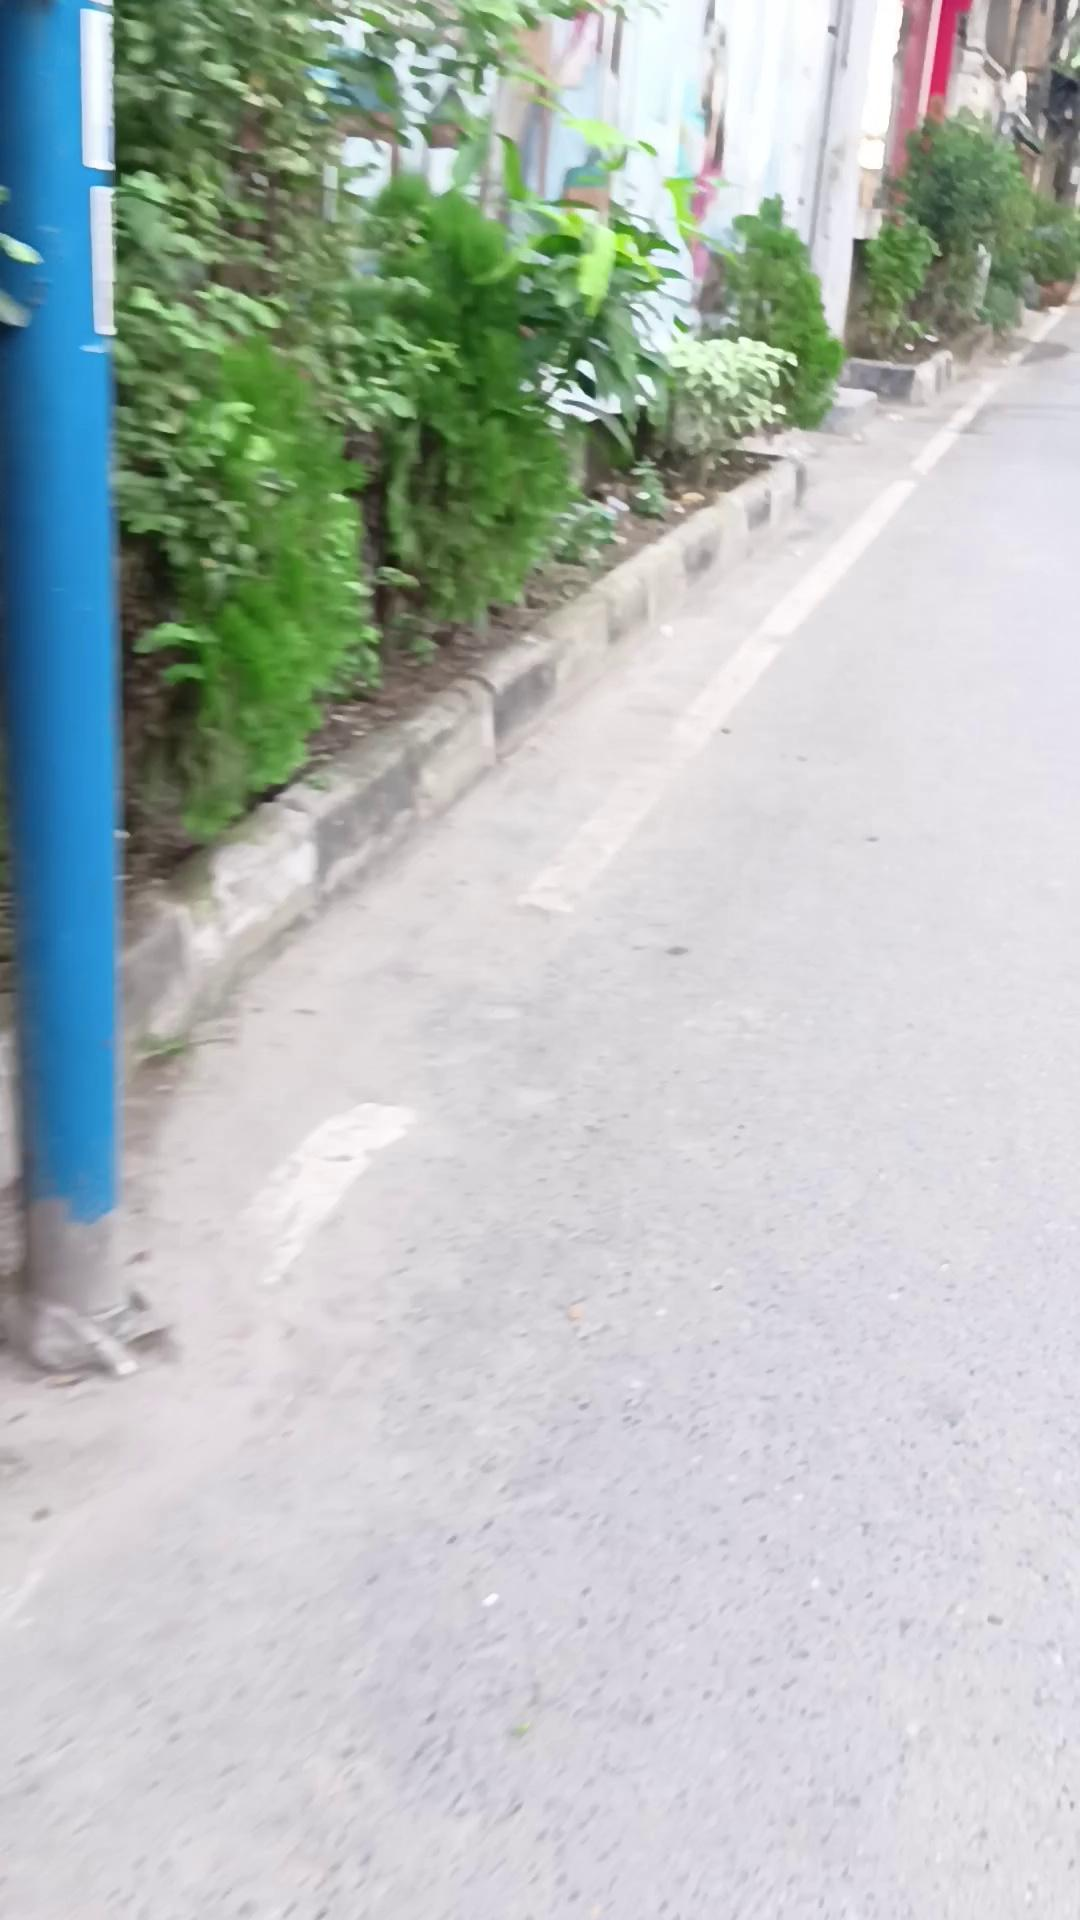Broken-road: (123, 436, 812, 1056)
Dog: (0, 1, 133, 1364)
Fallen-tree: (116, 0, 794, 858), (841, 214, 953, 405), (1025, 191, 1077, 309)
